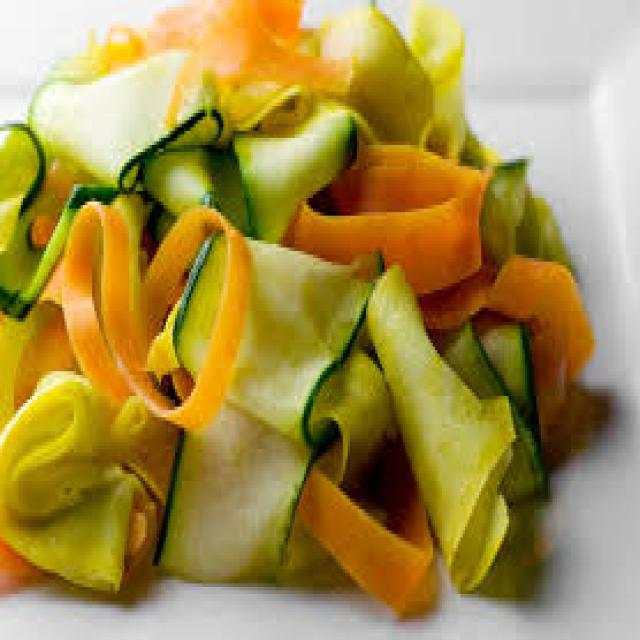Organik: (203, 224, 363, 590), (370, 259, 530, 617), (63, 194, 258, 399), (142, 52, 352, 227), (487, 144, 603, 418), (0, 378, 152, 587), (44, 18, 205, 180), (338, 6, 501, 160), (0, 104, 101, 325), (336, 158, 491, 295), (150, 0, 383, 89)
